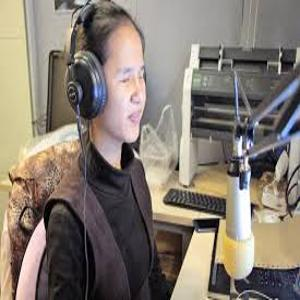Headphones: (65, 1, 110, 118)
